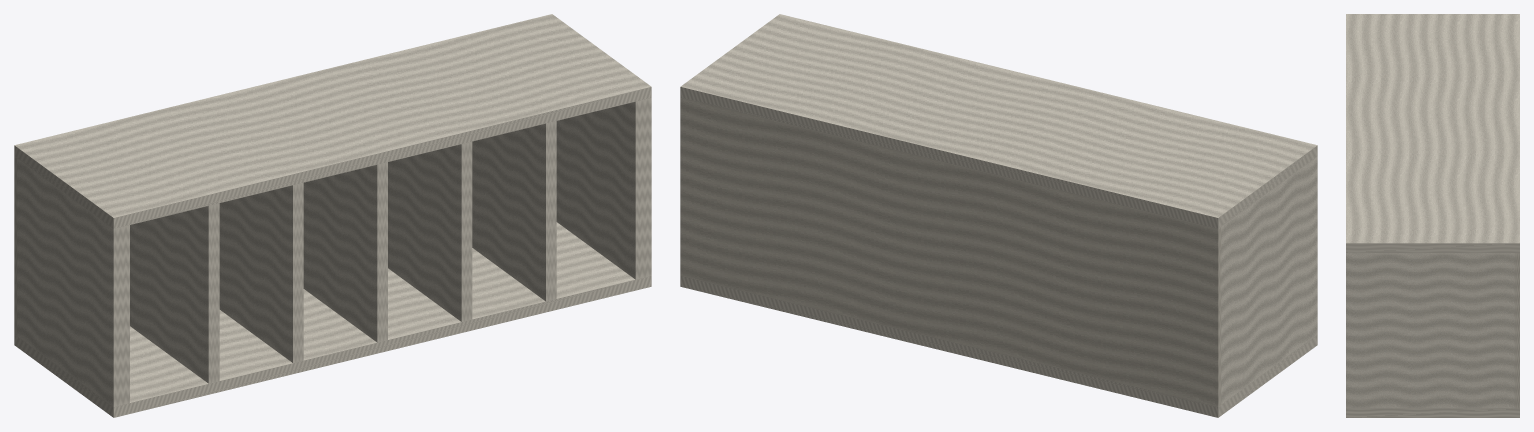
The picture shows the model from 3 angles, left to right: view 1: azimuth 30°, elevation 25°; view 2: azimuth 150°, elevation 25°; view 3: azimuth 270°, elevation 25°; orthographic projection. The views are drawn at different scales.
Parts seen in each view (by area): view 1: 1 top_panel, 2 bottom_panel, 4 left_panel, 5 right_panel, 6 divider_1, 9 divider_4, 10 divider_5, 7 divider_2, 8 divider_3, 3 back_panel; view 2: 3 back_panel, 1 top_panel, 4 left_panel, 2 bottom_panel; view 3: 1 top_panel, 5 right_panel, 2 bottom_panel, 3 back_panel.
Boxes of the visible parts, x1=… form: 1 top_panel: x1=14, y1=14, x2=651, y2=228; 2 bottom_panel: x1=14, y1=222, x2=651, y2=417; 4 left_panel: x1=17, y1=158, x2=129, y2=406; 5 right_panel: x1=556, y1=98, x2=651, y2=279; 6 divider_1: x1=130, y1=203, x2=219, y2=383; 9 divider_4: x1=388, y1=141, x2=472, y2=321; 10 divider_5: x1=472, y1=121, x2=556, y2=301; 7 divider_2: x1=219, y1=182, x2=303, y2=362; 8 divider_3: x1=303, y1=162, x2=387, y2=342; 3 back_panel: x1=14, y1=156, x2=17, y2=335; 3 back_panel: x1=680, y1=98, x2=1221, y2=406; 1 top_panel: x1=680, y1=14, x2=1317, y2=228; 4 left_panel: x1=1221, y1=156, x2=1317, y2=404; 2 bottom_panel: x1=680, y1=276, x2=1317, y2=417; 1 top_panel: x1=1346, y1=14, x2=1519, y2=252; 5 right_panel: x1=1346, y1=253, x2=1514, y2=408; 2 bottom_panel: x1=1346, y1=408, x2=1519, y2=417; 3 back_panel: x1=1514, y1=253, x2=1519, y2=408.
Size of the model in its own units: 0.856 by 0.304 by 0.2741.
2 materials, 2 textured.
